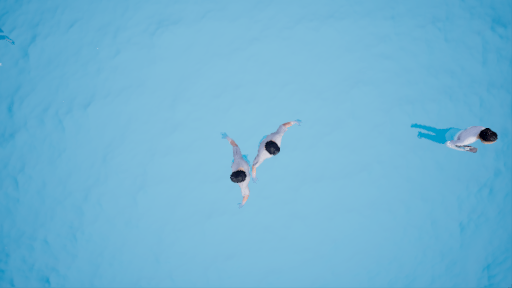person: (243, 110, 305, 182), (404, 119, 503, 155), (218, 128, 256, 207)
